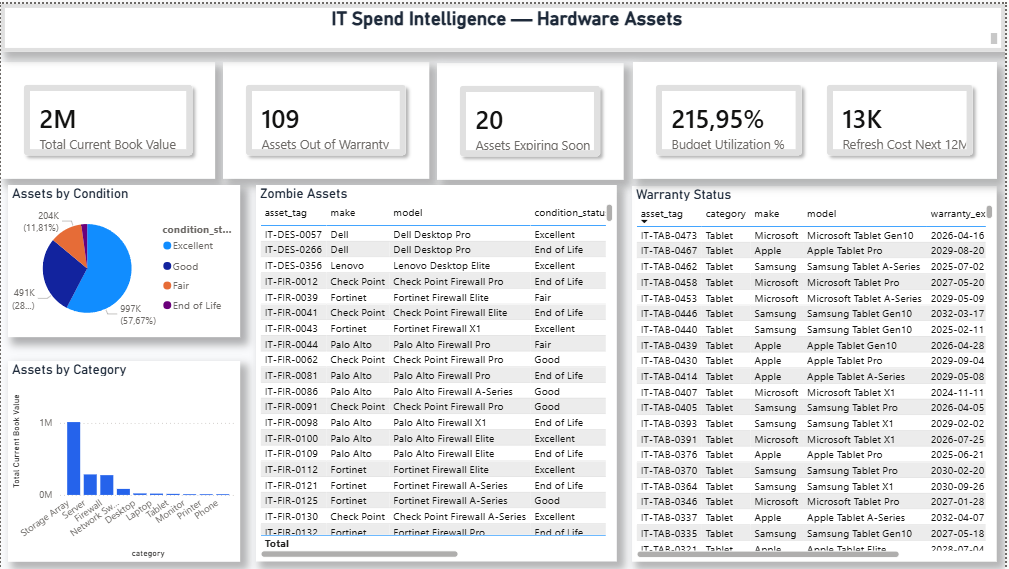

What the dashboard file says about the page in this screenshot:
{"tool":"powerbi","page":{"name":"HAM - Hardware Assets","canvas":[1280,720],"ordinal":1},"visuals":[{"type":"cardVisual","fields":{"Data":["_Measures.Total Current Book Value"]},"box":[0,74.3,273.4,148.6],"z":0},{"type":"cardVisual","fields":{"Data":["_Measures.Assets Out of Warranty"]},"box":[283.1,74.3,262.7,148.6],"z":1000},{"type":"cardVisual","fields":{"Data":["_Measures.Assets Expiring Soon"]},"box":[555.5,75.4,237.9,148.6],"z":2000},{"type":"clusteredColumnChart","title":"Assets by Category","fields":{"Y":["_Measures.Total Current Book Value"],"Category":["hardware_assets.category"]},"box":[8.8,455.1,295.9,255.7],"z":3000},{"type":"pieChart","title":"Assets by Condition","fields":{"Y":["_Measures.Total Current Book Value"],"Category":["hardware_assets.condition_status"]},"box":[9.4,231.3,295.9,193.8],"z":4000},{"type":"tableEx","title":"Warranty Status","fields":{"Values":["hardware_assets.asset_tag","hardware_assets.category","hardware_assets.make","hardware_assets.model","hardware_assets.warranty_expiry","cost_centers.department_name"]},"box":[804.9,231.9,465.1,478.9],"z":5000},{"type":"textbox","title":"IT Spend Intelligence — Hardware Assets","box":[0,0,1280,60.8],"z":6000},{"type":"cardVisual","fields":{"Data":["_Measures.Budget Utilization %","_Measures.Refresh Cost Next 12M"]},"box":[805.2,74.3,464,148.6],"z":7000},{"type":"tableEx","title":"Zombie Assets","fields":{"Values":["hardware_assets.asset_tag","hardware_assets.make","hardware_assets.model","hardware_assets.condition_status","Sum(hardware_assets.current_book_value)","employees.first_name","employees.last_name"]},"box":[325.1,230.7,460.3,479.6],"z":8000}]}

Visuals, with their boxes in screenshot pixels (x1, y1, x2, y2), scaled from the page's 1280x720 canvas onto the 1009x569 screenshot:
cardVisual - _Measures.Total Current Book Value: pyautogui.locateOnScreen(0, 59, 216, 176)
cardVisual - _Measures.Assets Out of Warranty: pyautogui.locateOnScreen(223, 59, 430, 176)
cardVisual - _Measures.Assets Expiring Soon: pyautogui.locateOnScreen(438, 60, 625, 177)
"Assets by Category" clusteredColumnChart: pyautogui.locateOnScreen(7, 360, 240, 562)
"Assets by Condition" pieChart: pyautogui.locateOnScreen(7, 183, 241, 336)
"Warranty Status" tableEx: pyautogui.locateOnScreen(634, 183, 1001, 562)
"IT Spend Intelligence — Hardware Assets" textbox: pyautogui.locateOnScreen(0, 0, 1008, 48)
cardVisual - _Measures.Budget Utilization % x _Measures.Refresh Cost Next 12M: pyautogui.locateOnScreen(635, 59, 1000, 176)
"Zombie Assets" tableEx: pyautogui.locateOnScreen(256, 182, 619, 561)
